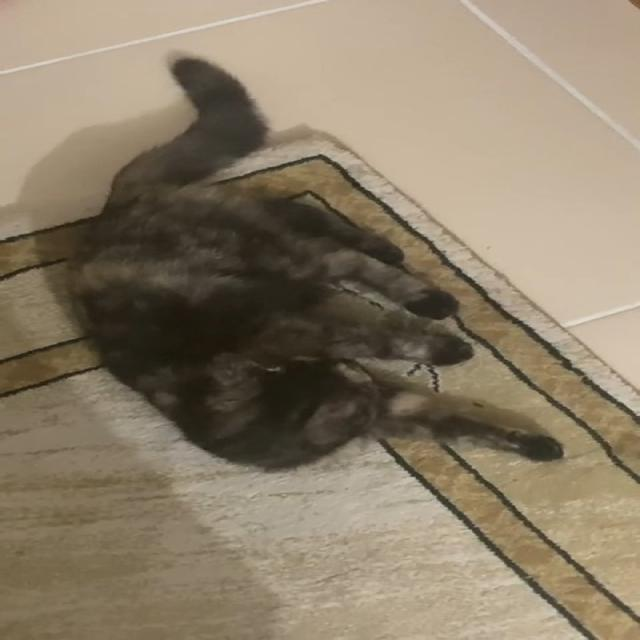authorized: (63, 50, 564, 472)
